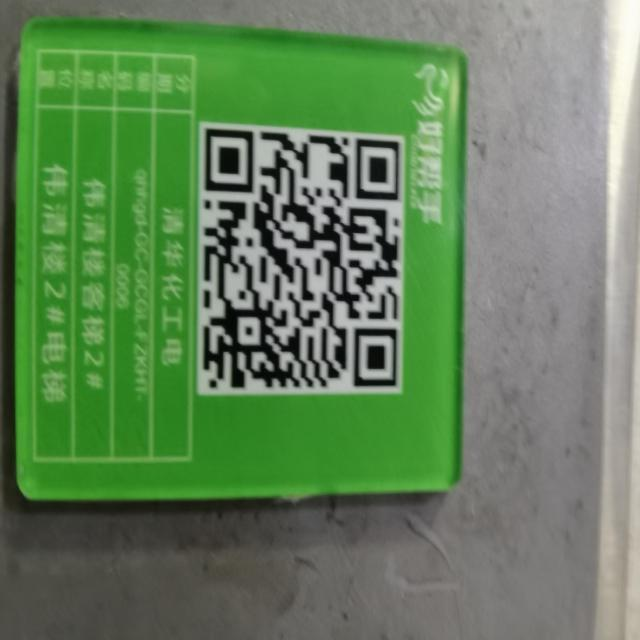qr_code: (200, 128, 400, 388)
